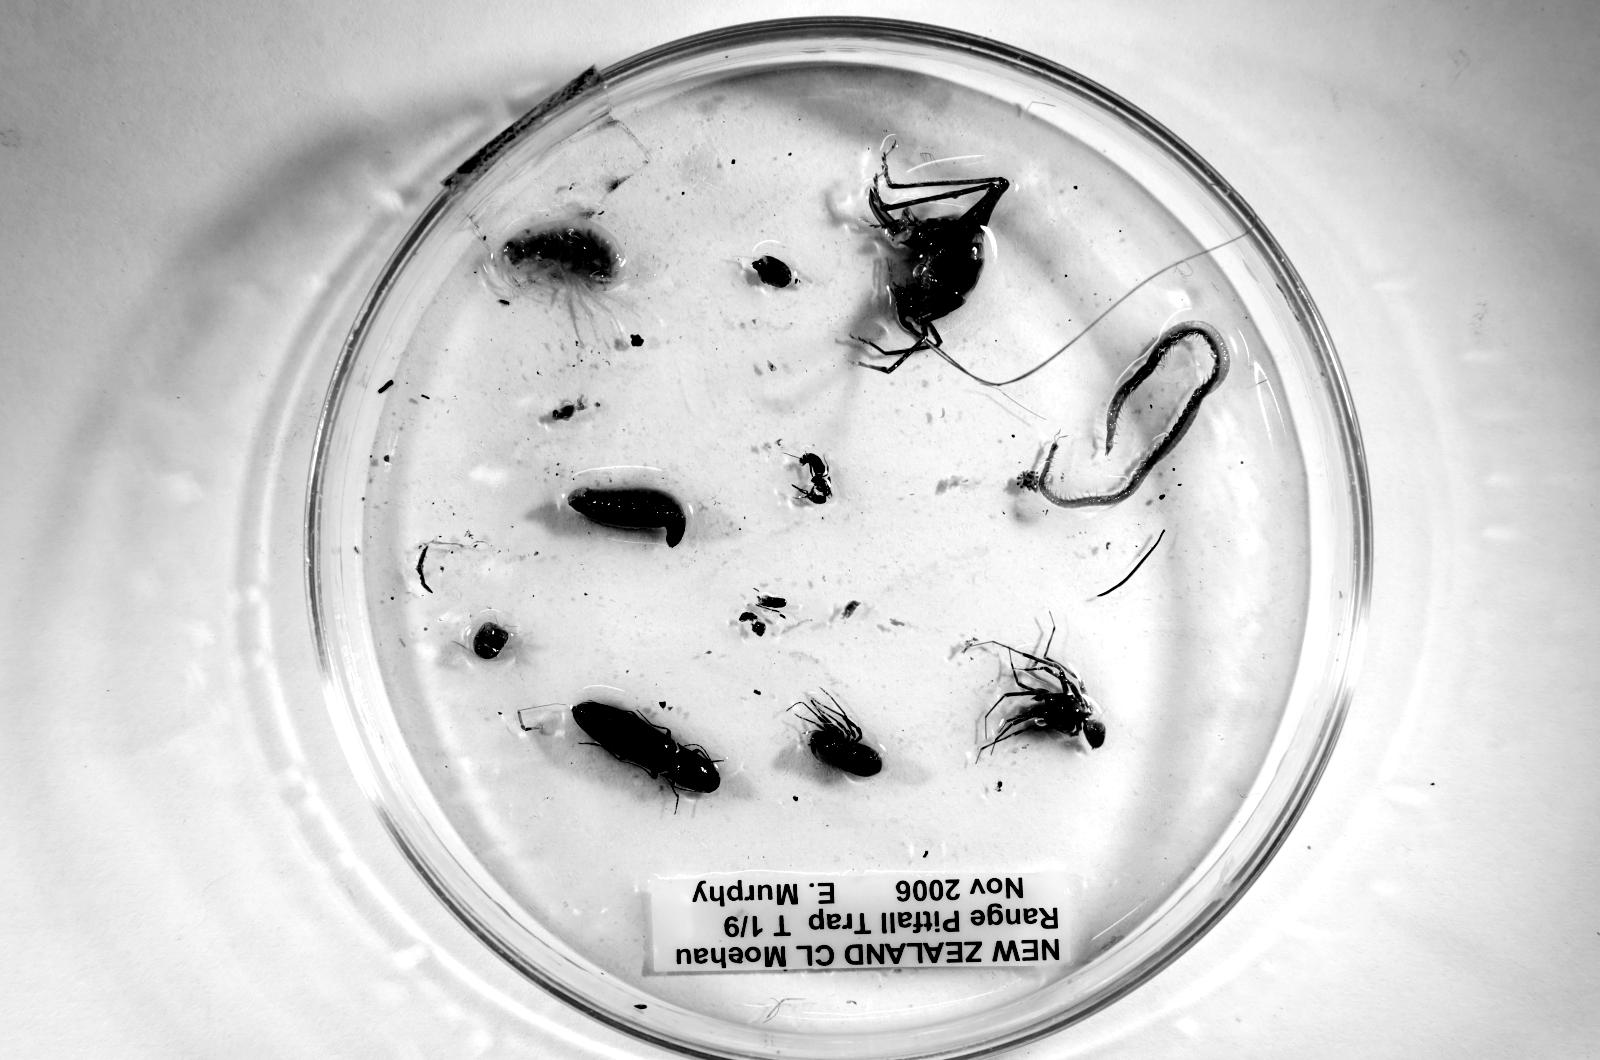amphipoda: (496, 220, 626, 316)
araneae: (974, 642, 1105, 750)
chilopoda: (1021, 321, 1230, 508)
coleoptera: (571, 701, 720, 792)
formicidae: (795, 453, 832, 504)
opiliones: (789, 699, 881, 776)
orthoptera: (869, 151, 1009, 373)
